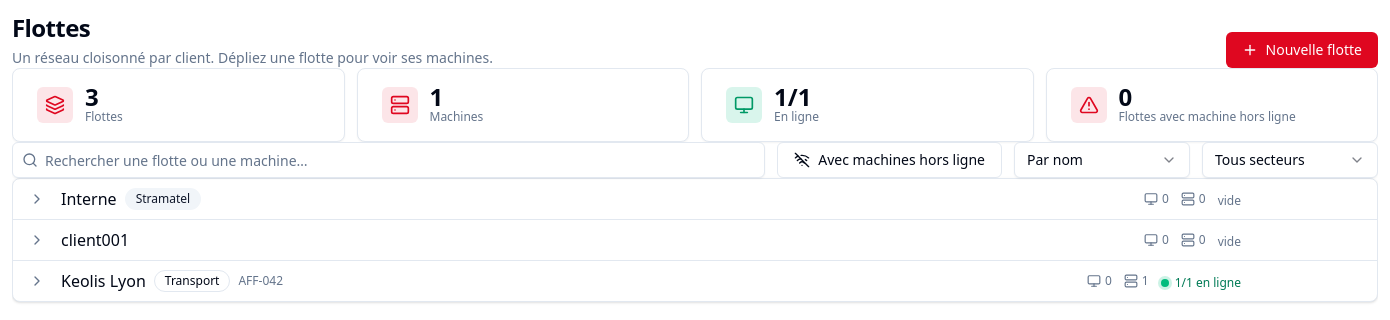
FleetsHome › affiche le nom lisible de la fiche et cherche dans la fiche
Check: the link "Keolis Lyon" is shown, box [61,269,146,293]
Type "aff-042" into the field labelled "Rechercher une flotte ou une machine…" at (389, 160), box [12,142,765,178]
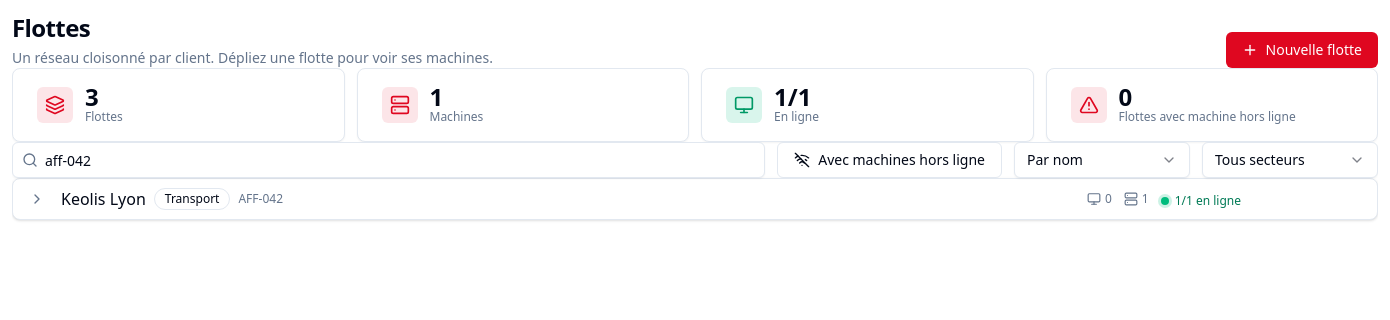
Check: the link "Keolis Lyon" is shown, box [61,187,146,211]
Check: the link "client001" is gone
